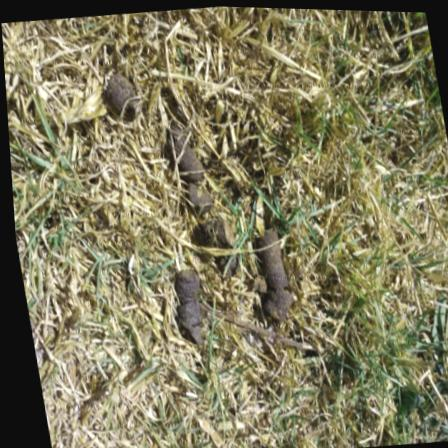dog-poop: (163, 122, 237, 272), (241, 211, 299, 320), (163, 268, 208, 353), (100, 66, 144, 122)
